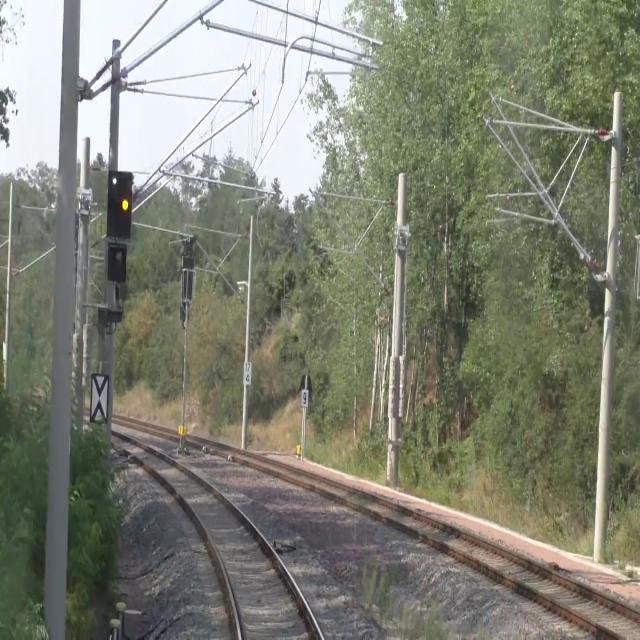rail-track: (290, 471, 640, 639), (112, 434, 319, 639)
